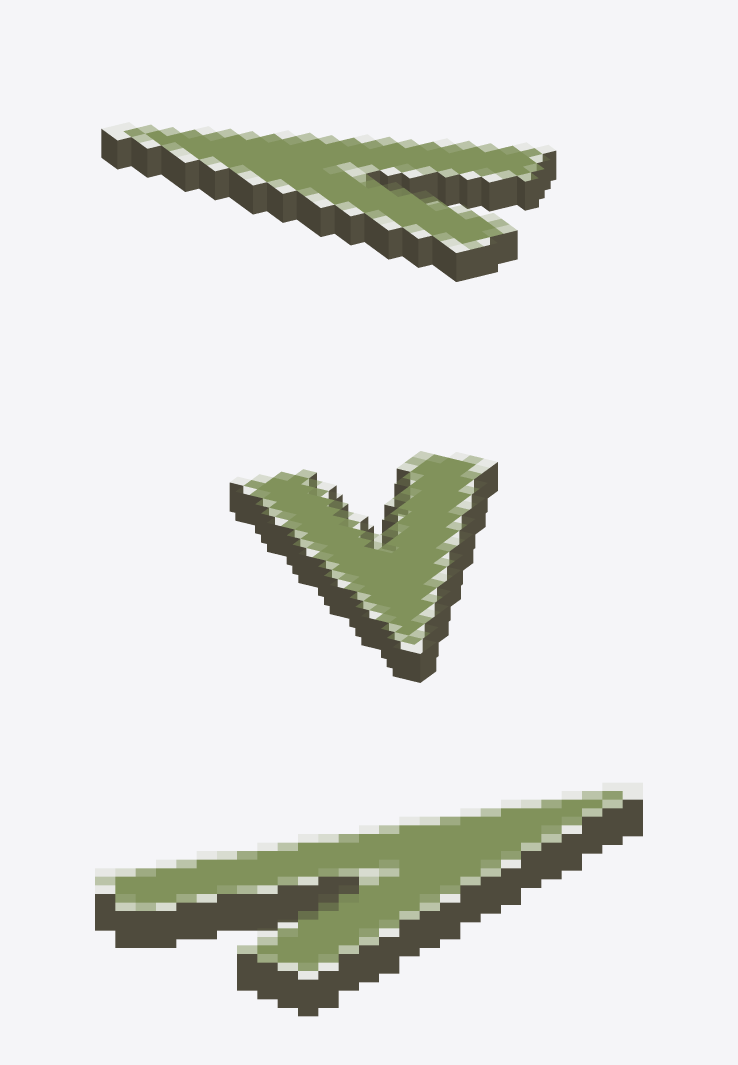
Rendered from GrassTuft.glb.
The picture shows the model from 3 angles, top to bottom: view 1: azimuth 30°, elevation 25°; view 2: azimuth 150°, elevation 25°; view 3: azimuth 270°, elevation 25°; orthographic projection. The views are drawn at different scales.
Visible parts, largest first — view 1: Visual; view 2: Visual; view 3: Visual.
Boxes of the visible parts, x1,y1,x2,y2 form: Visual: (101,124,556,281); Visual: (229,451,497,682); Visual: (95,791,642,1016).
Bounding box in the file's own units: 0.31 × 0.02 × 0.35.
3 materials, 2 textured.
